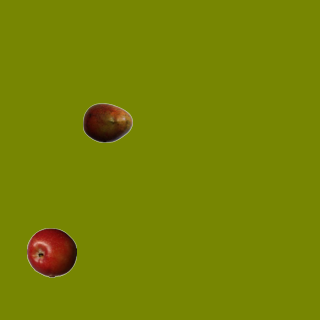Apple Braeburn: (26, 227, 76, 277)
Mango Red: (82, 97, 132, 147)
